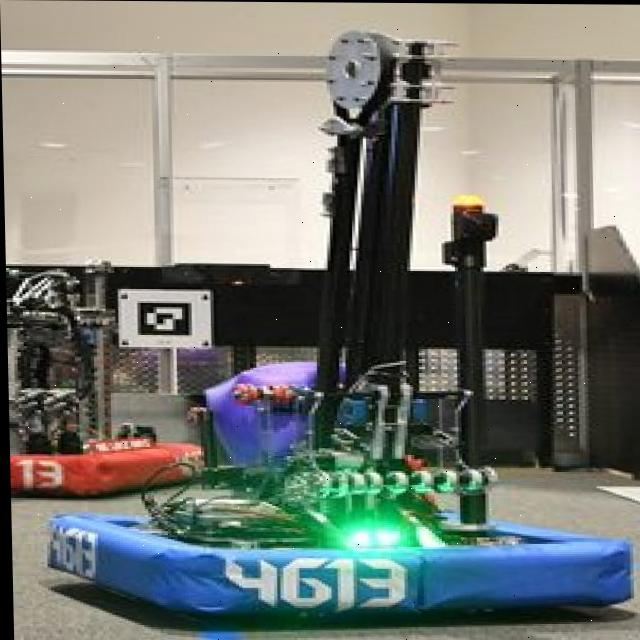robot: (42, 13, 626, 610), (7, 261, 202, 499)
